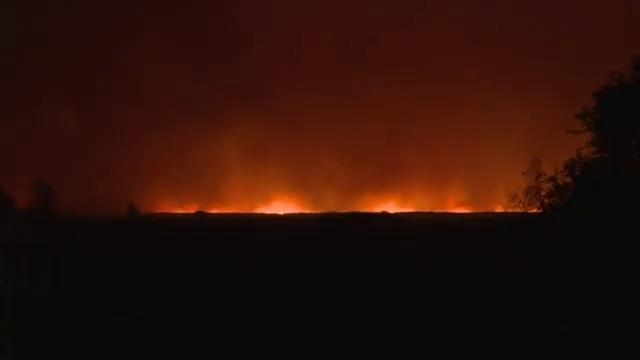fire: (150, 197, 317, 214), (355, 198, 480, 213), (490, 203, 524, 211)
smoke: (47, 12, 619, 212)
